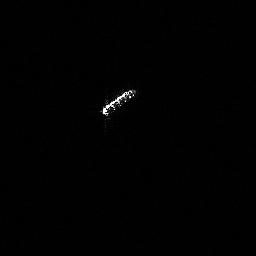ship: (98, 85, 138, 119)
